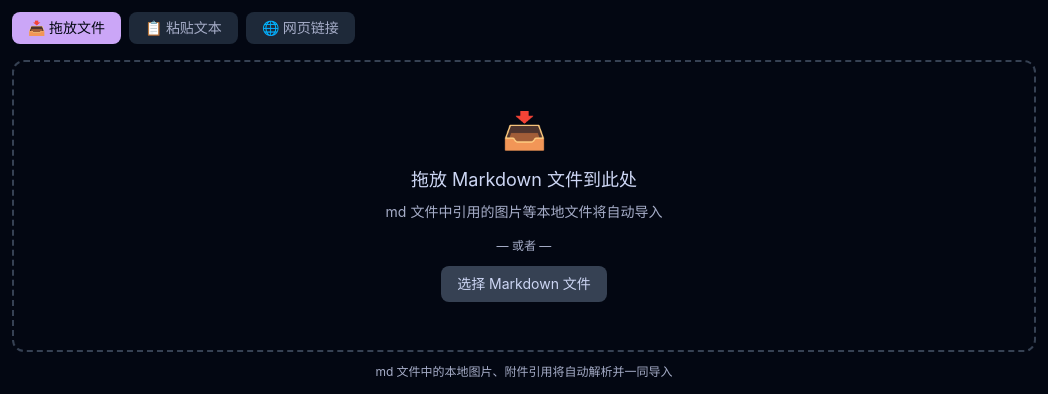
Scenario: IngestInput › shows URL input form and disables submit when empty
The width and height of the screenshot is (1048, 394).
Click the button "🌐 网页链接". click: (300, 28)
box: [246,12,355,44]
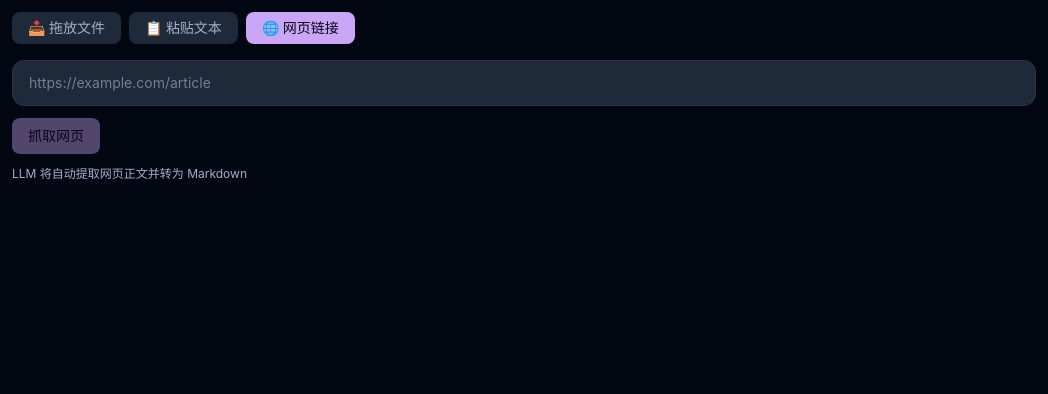
Result: the button "抓取网页" is disabled at [12,118,100,154]
